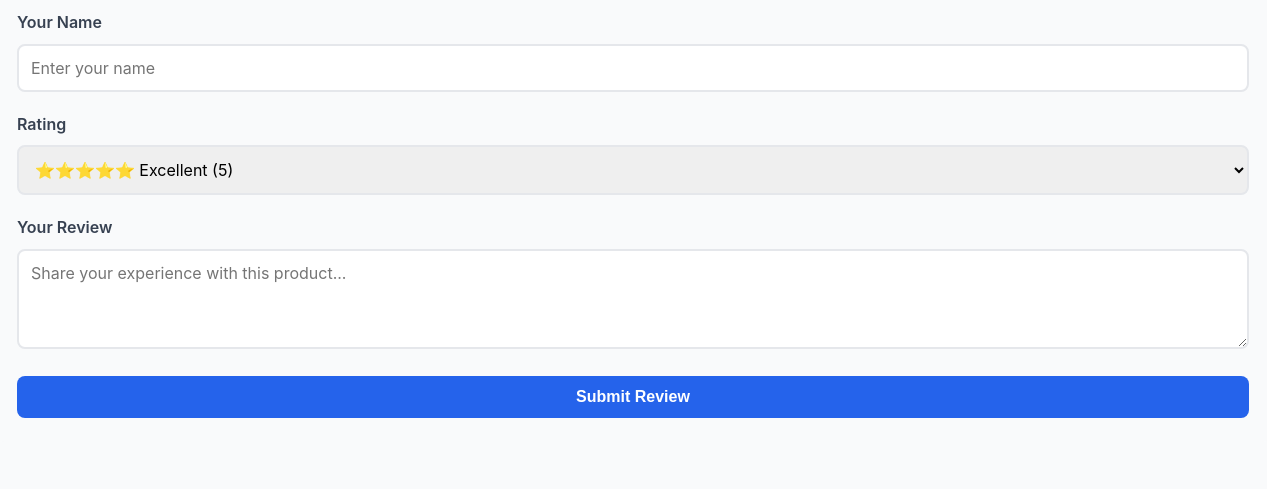
Test case: ReviewForm › clears field error when user starts typing
Note: Trigger validation error
Click the button "Submit Review" at {"x": 633, "y": 397}, box x1=17 y1=376 x2=1249 y2=418
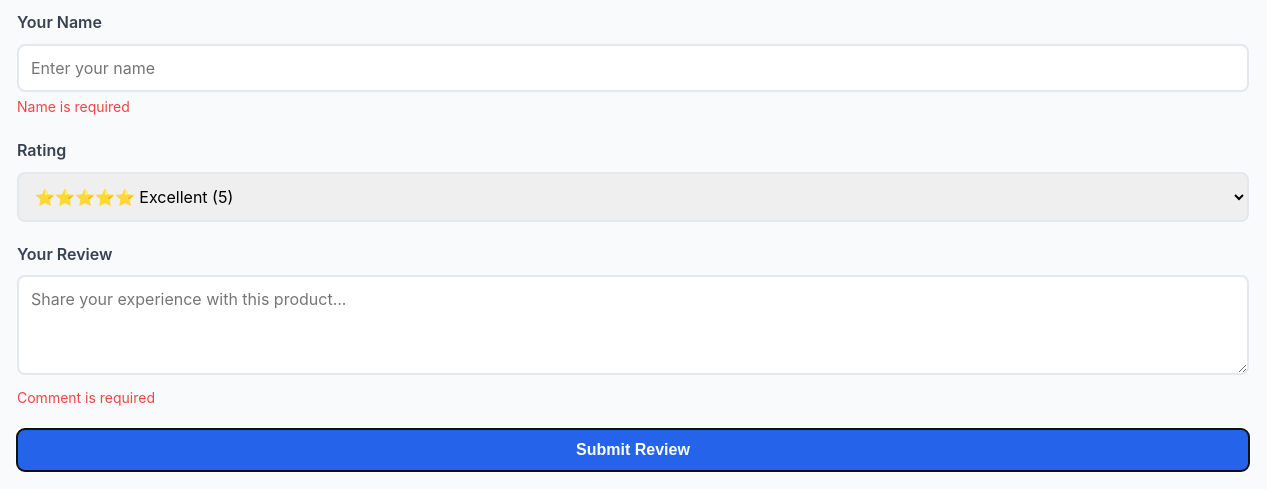
Result: the text "Name is required" is shown at x1=17 y1=98 x2=130 y2=115
Note: Start typing
Type "J" into the field labelled "Your Name" at {"x": 633, "y": 68}, box x1=17 y1=44 x2=1249 y2=92
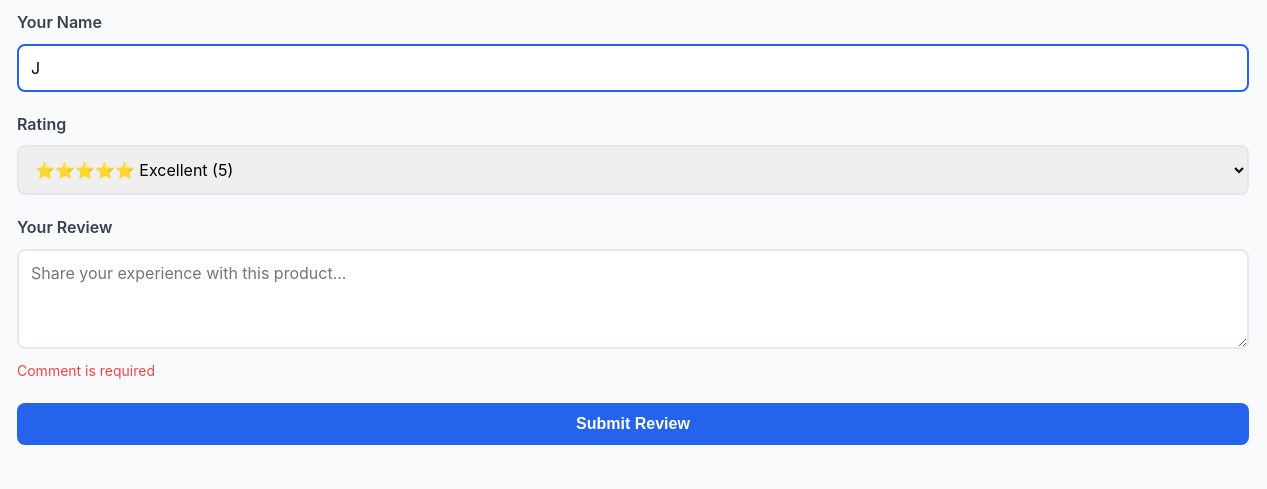
Result: the text "Name is required" is gone
